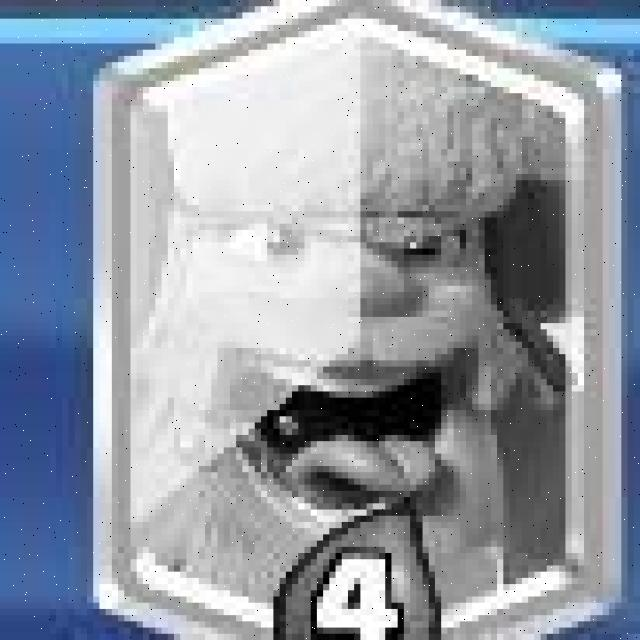Lumberjack: (98, 5, 620, 640)
